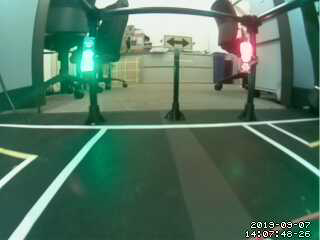Left_Right_sign: (163, 36, 195, 50)
Traffic_light_green: (81, 37, 93, 70)
Traffic_light_red: (240, 39, 252, 70)
